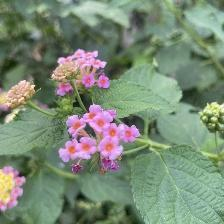common lanthana: (60, 106, 143, 172)
